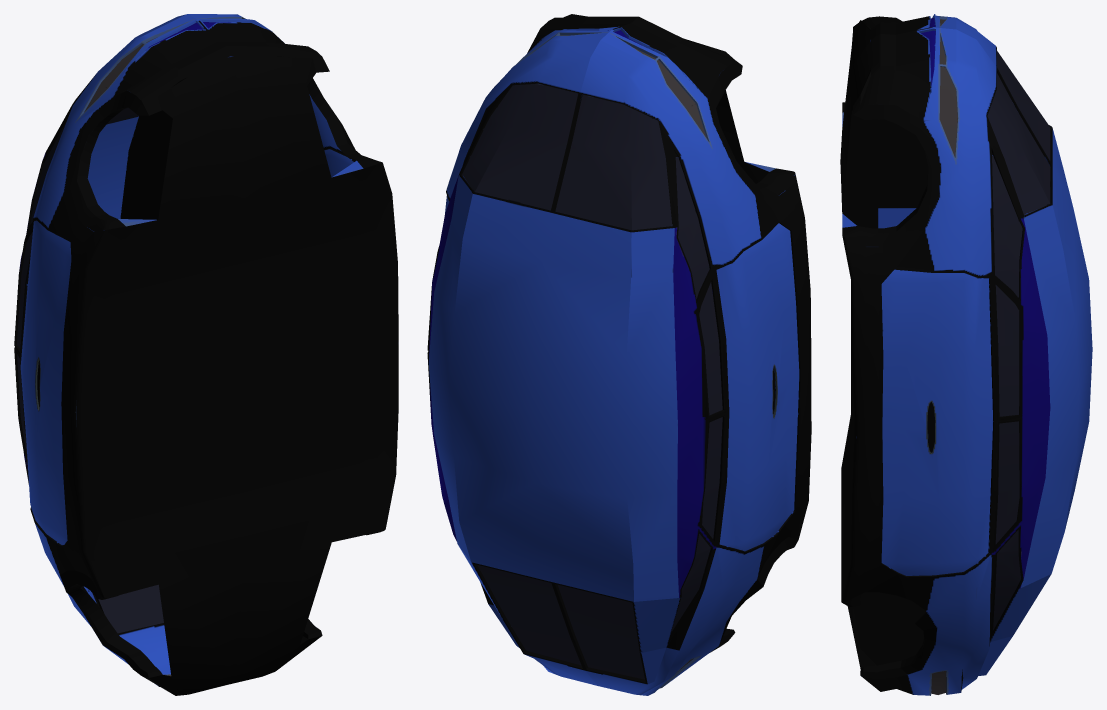
Rendered from CarFinal.fbx.
3 views of the same model, side by side, from view 1: azimuth 30°, elevation 25°; view 2: azimuth 150°, elevation 25°; view 3: azimuth 270°, elevation 25° (orthographic).
Parts seen in each view (by area): view 1: FinalCarBake; view 2: FinalCarBake; view 3: FinalCarBake.
Part boxes in pixels (<box>): FinalCarBake: <box>14,14,398,695</box>; FinalCarBake: <box>427,14,811,695</box>; FinalCarBake: <box>840,14,1092,695</box>.
Bounding box in the file's own units: 466 × 897 × 313.
1 material, 1 textured.
